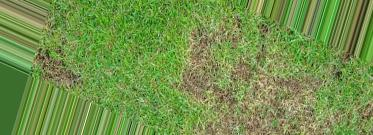patch: (197, 40, 305, 134), (36, 53, 77, 83)
